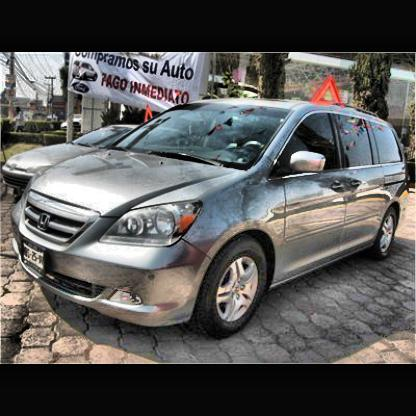Honda Odyssey Minivan 2007: (15, 104, 410, 339)
